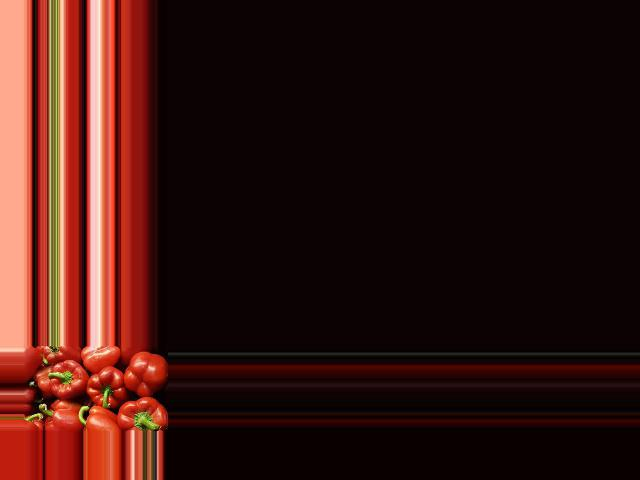bell_pepper: (82, 347, 121, 369)
